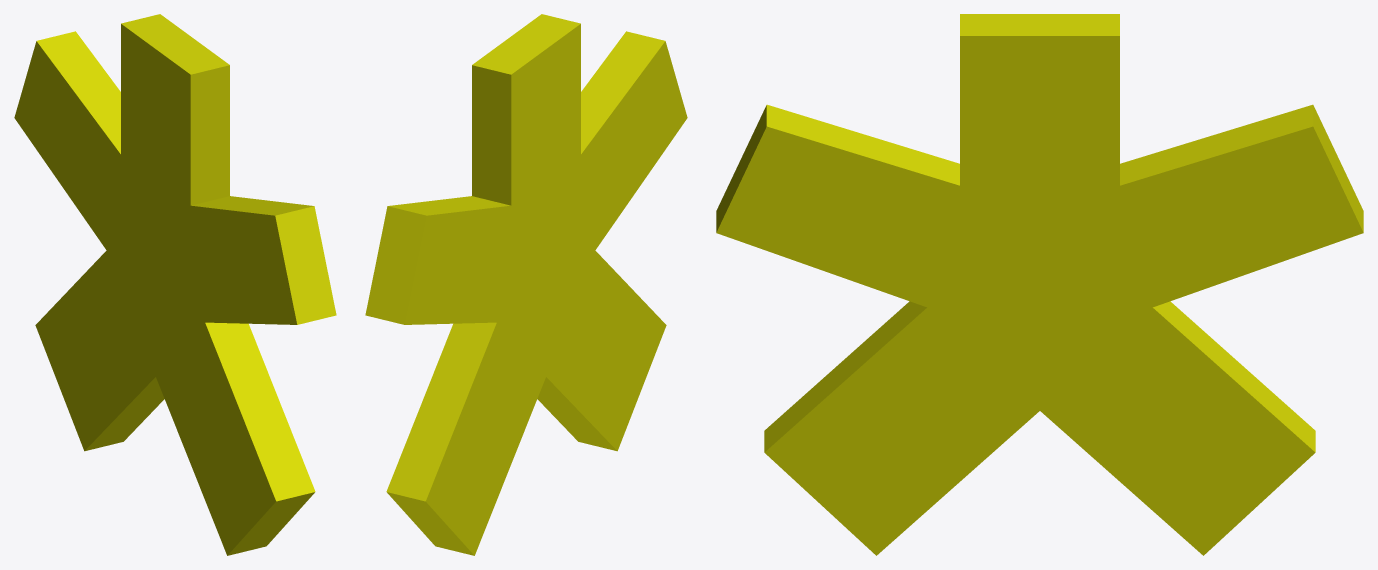
Rendered from RDFicha.fbx.
3 views of the same model, side by side, from view 1: azimuth 30°, elevation 25°; view 2: azimuth 150°, elevation 25°; view 3: azimuth 270°, elevation 25° (orthographic). The views are drawn at different scales.
Parts seen in each view (by area): view 1: Plane; view 2: Plane; view 3: Plane.
Part boxes in pixels (x1=…): Plane: x1=14, y1=14, x2=336, y2=555; Plane: x1=365, y1=14, x2=687, y2=555; Plane: x1=716, y1=14, x2=1363, y2=555.
Bounding box in the file's own units: 19.5 × 215 × 243.
